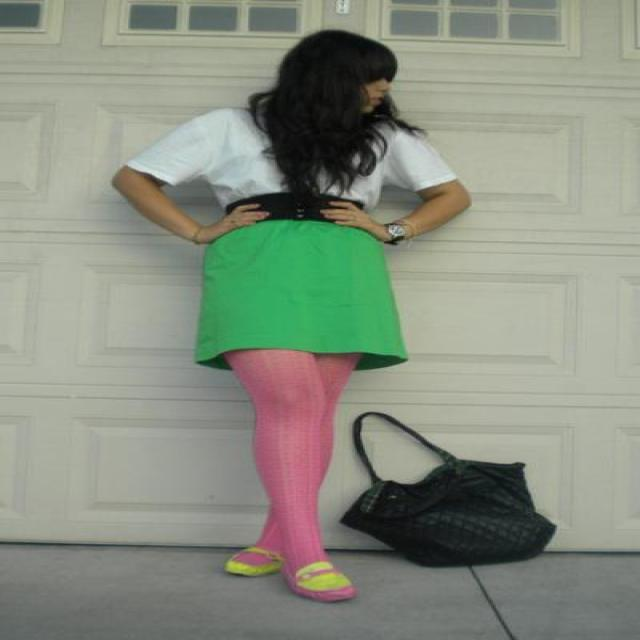bag: (339, 418, 555, 569)
shirt: (120, 99, 453, 204)
shoe: (225, 544, 348, 590)
skirt: (196, 220, 407, 370)
